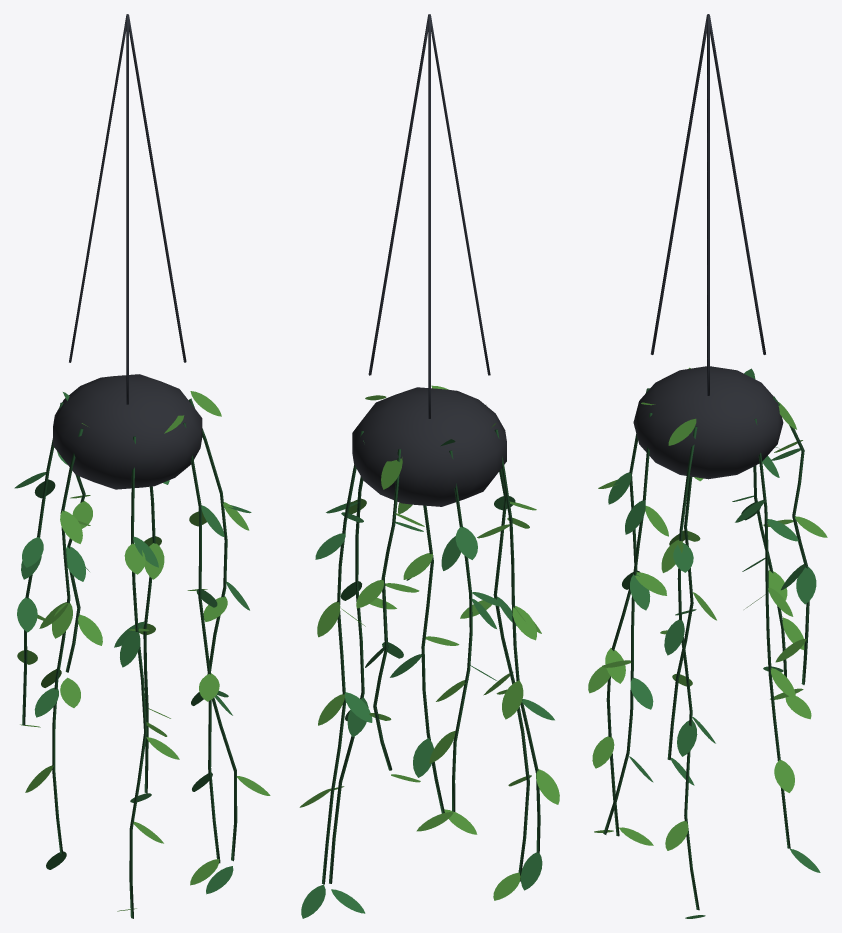
Rendered from Deco_Plant_Trailing.gltf.
3 views of the same model, side by side, from view 1: azimuth 30°, elevation 25°; view 2: azimuth 150°, elevation 25°; view 3: azimuth 270°, elevation 25° (orthographic). The views are drawn at different scales.
Visible parts, largest first — view 1: Deco_Plant_Trailing; view 2: Deco_Plant_Trailing; view 3: Deco_Plant_Trailing.
Part boxes in pixels (box(x1,y1,x2,y2)): Deco_Plant_Trailing: box(14, 14, 270, 918); Deco_Plant_Trailing: box(299, 14, 559, 918); Deco_Plant_Trailing: box(588, 14, 827, 918).
Size of the model in its own units: 0.532 by 1.92 by 0.4793.
